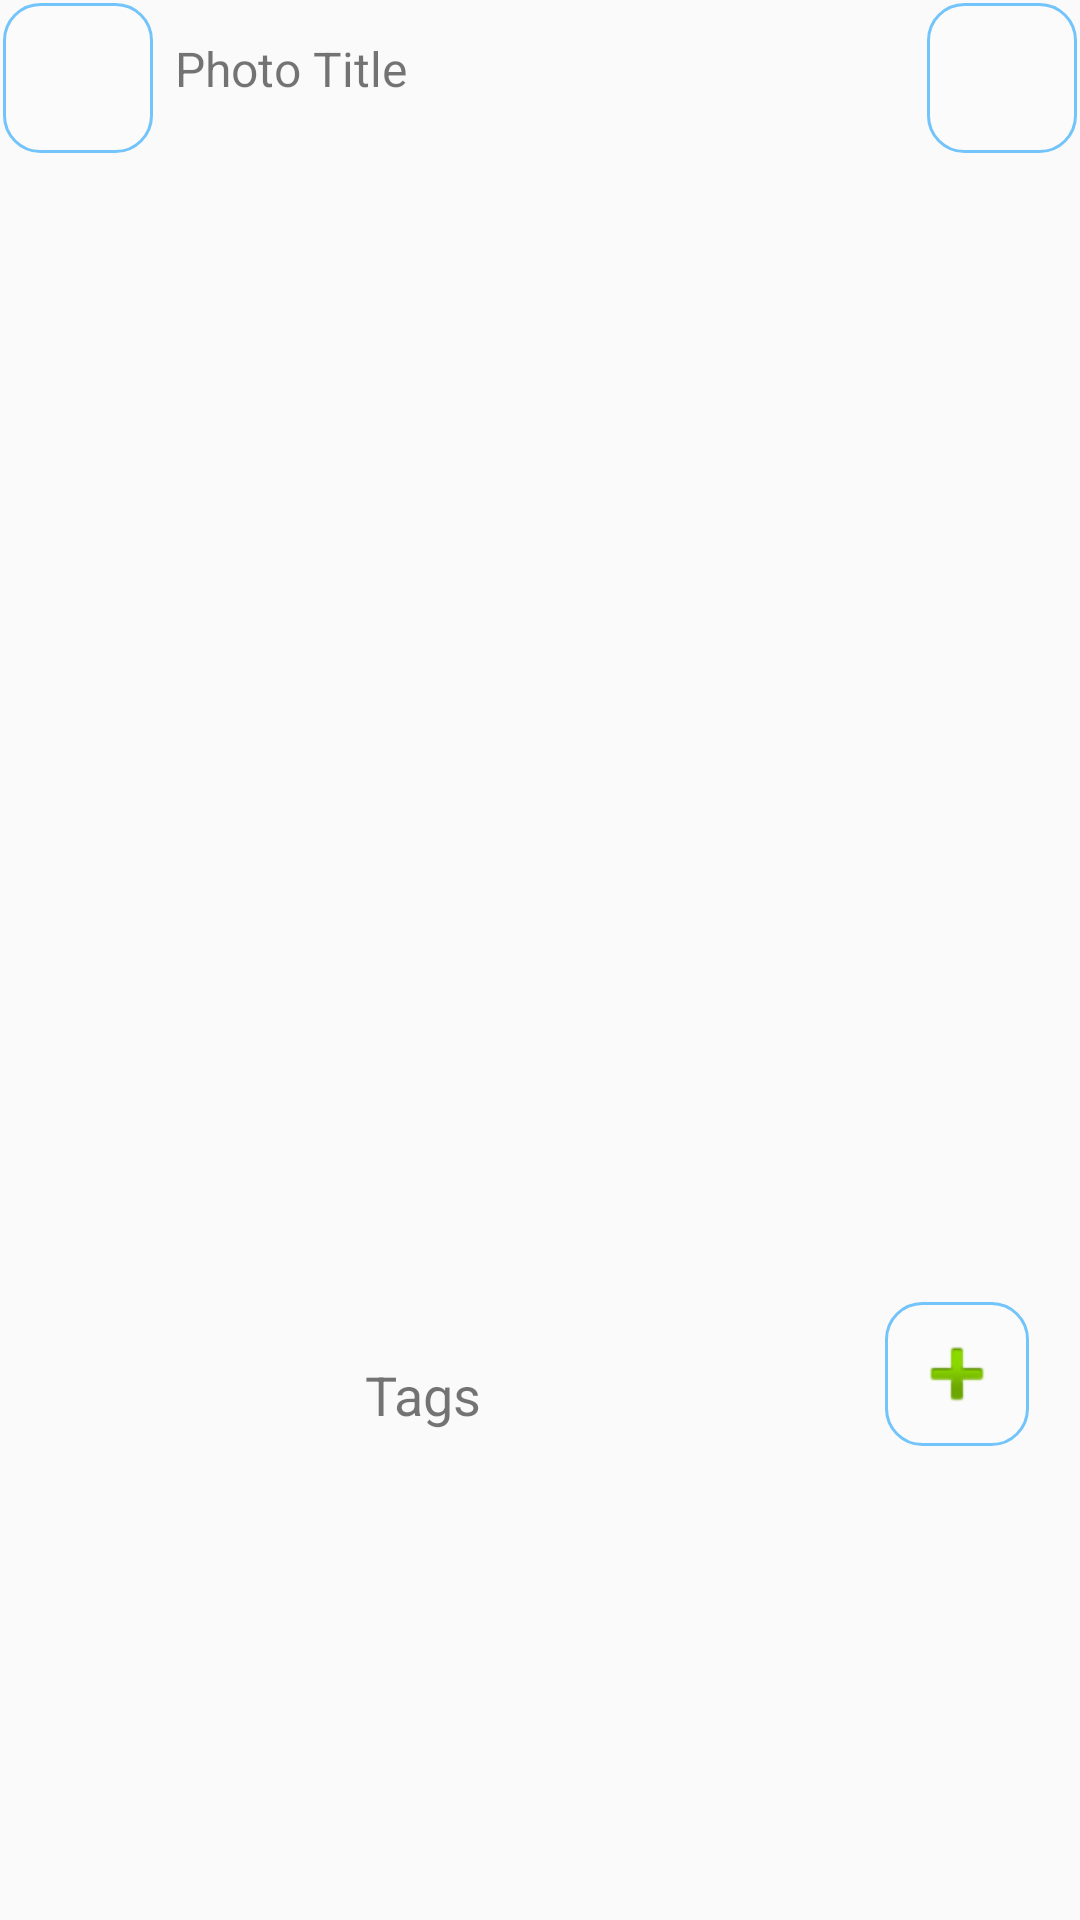

Where to tap for icons on this 1080px x 1920px app screen, as (x=x, y=y):
add: (x=957, y=1374)
